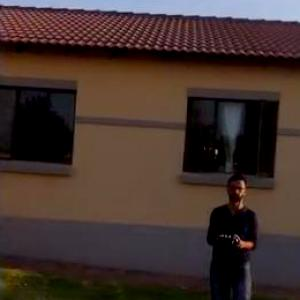follow: (201, 164, 262, 299)
